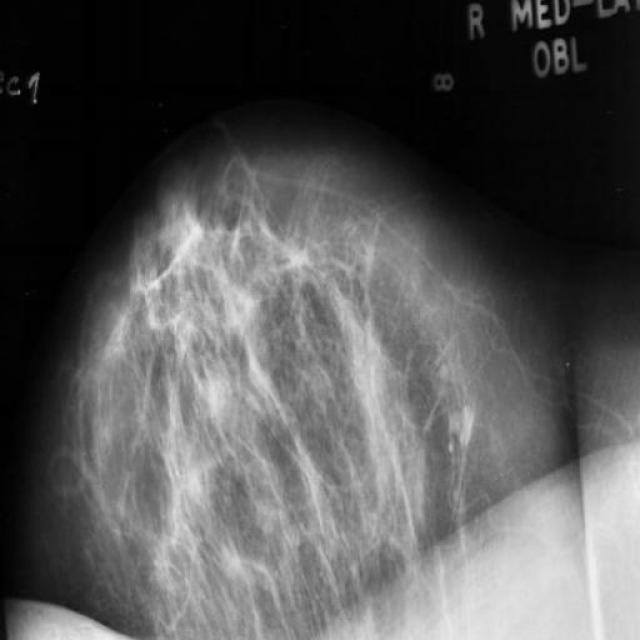cancer: (269, 223, 321, 306)
